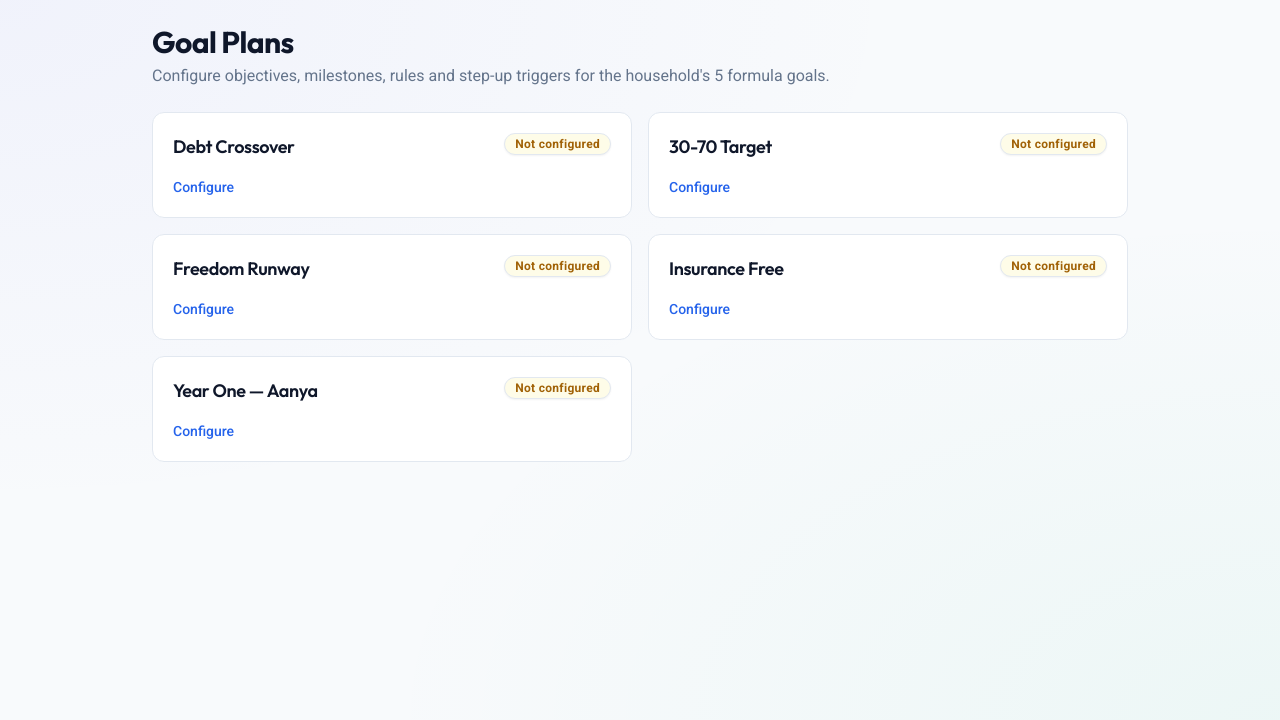
Test: GoalPlans page › shows an error banner when creating a goal plan fails
Expected: the heading "Debt Crossover" is shown, [173, 133, 294, 161]
Click the button "Configure" below "Debt Crossover".
click(204, 187)  # box [173, 177, 234, 197]
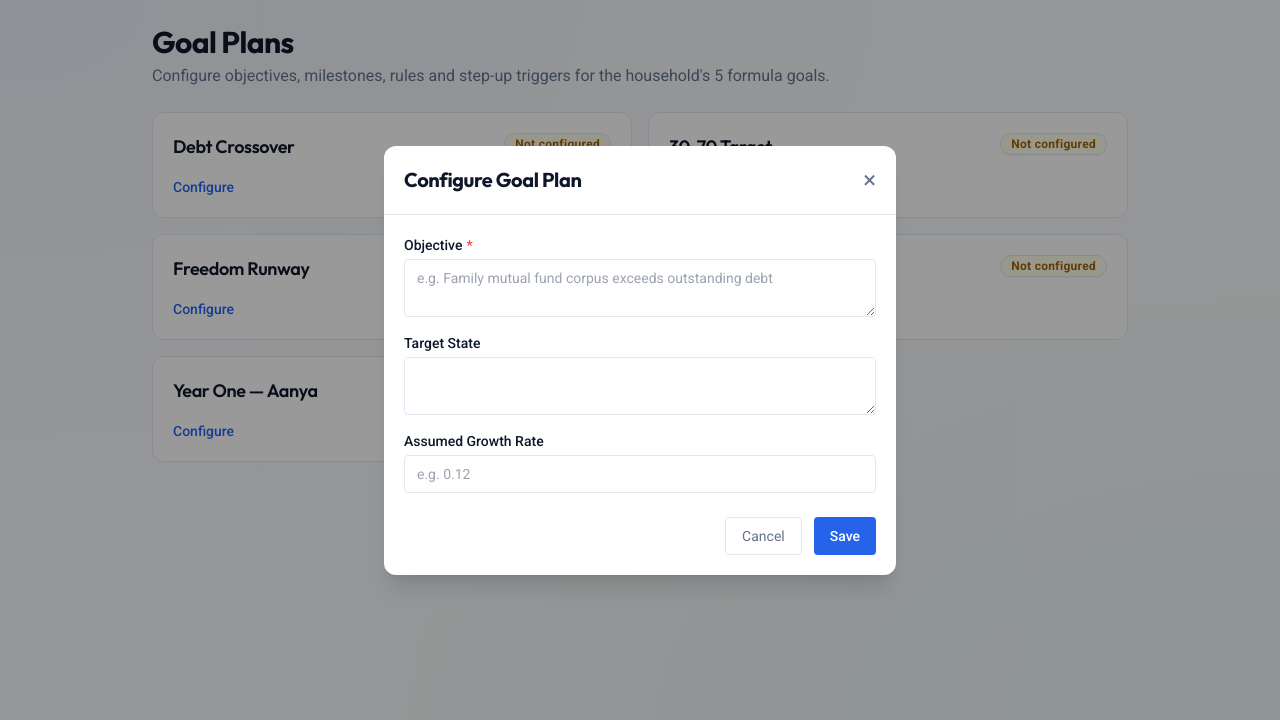
Type "New objective" into the text box with placeholder "e.g. Family mutual fund corpus exceeds outstanding debt".
click(640, 288); type("New objective")  # box [404, 258, 876, 316]
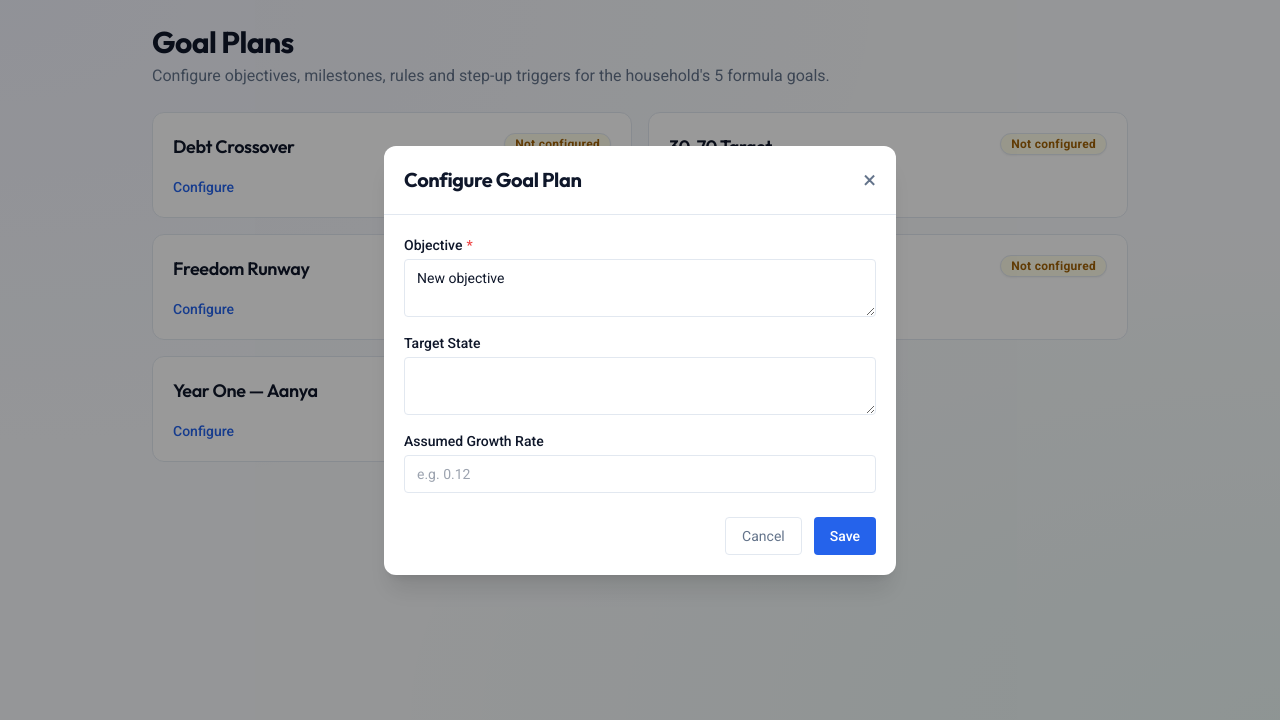
Click the button "Save".
click(845, 536)  # box [814, 516, 876, 554]
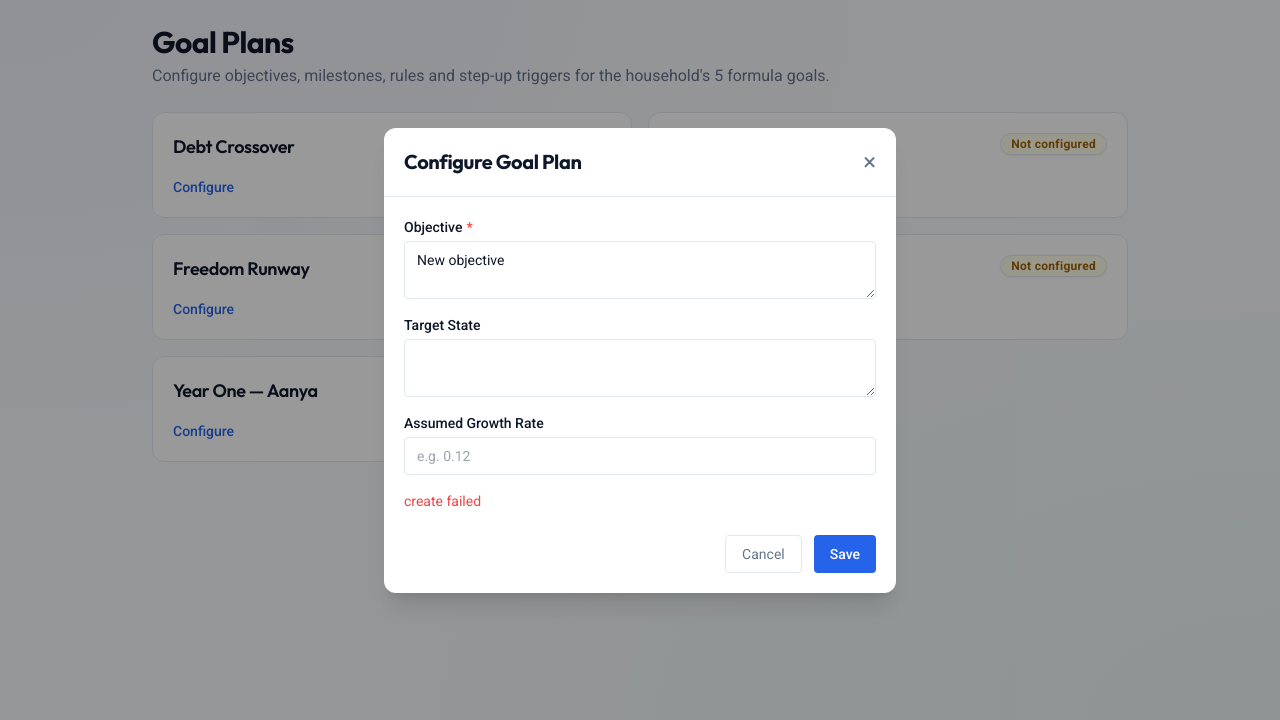
Now the text "create failed" is shown, box [404, 492, 481, 508]
